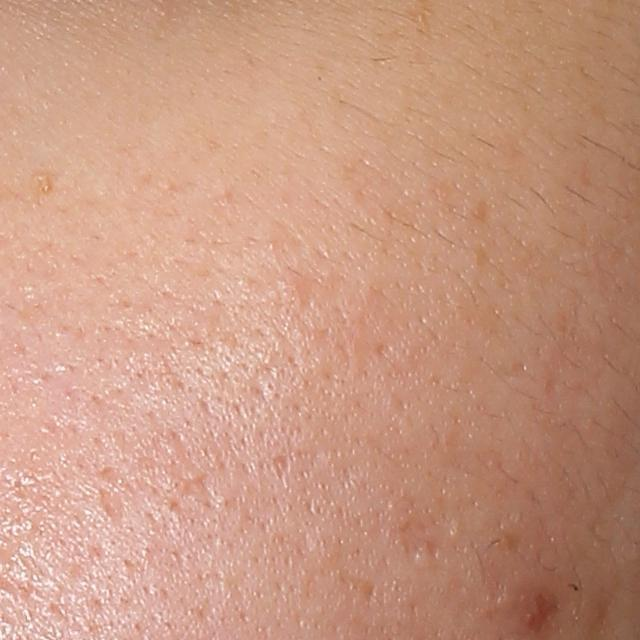atrophic_scar: (176, 457, 225, 513), (392, 518, 451, 563), (256, 451, 294, 489), (96, 487, 128, 525)
